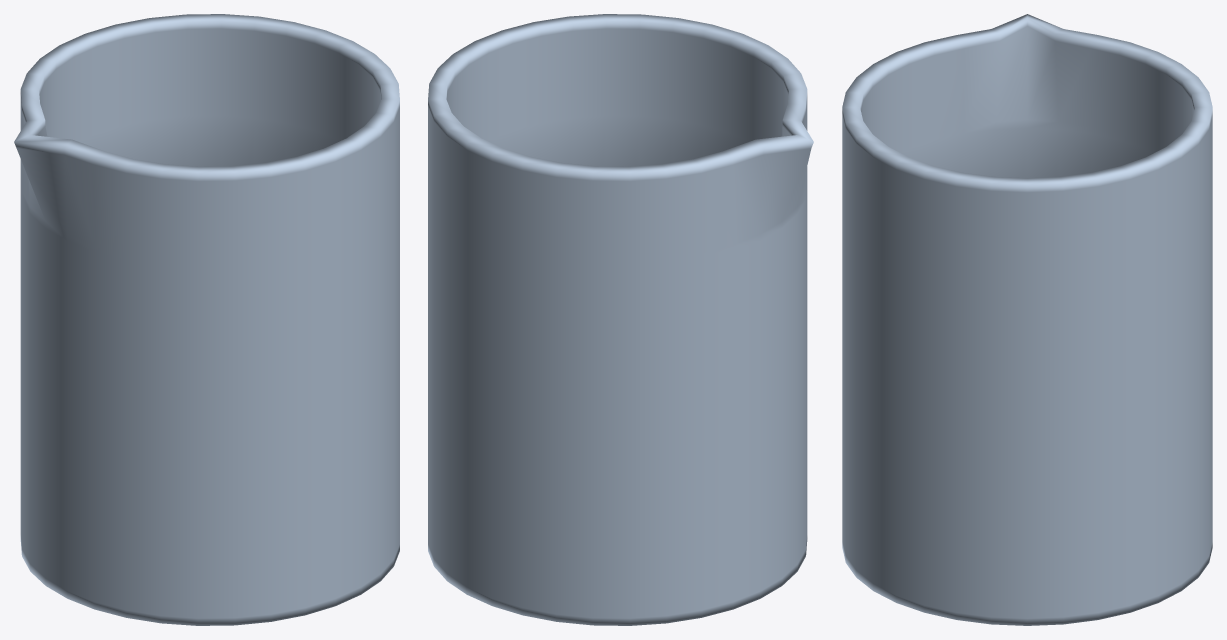
Rendered from Beaker.fbx.
The picture shows the model from 3 angles, left to right: view 1: azimuth 30°, elevation 25°; view 2: azimuth 150°, elevation 25°; view 3: azimuth 270°, elevation 25°; orthographic projection. The views are drawn at different scales.
Parts seen in each view (by area): view 1: 비커; view 2: 비커; view 3: 비커.
Boxes of the visible parts, x1,y1,x2,y2 form: 비커: [14, 14, 399, 625]; 비커: [428, 14, 813, 625]; 비커: [842, 14, 1212, 625].
Size of the model in its own units: 28.77 by 34.66 by 26.23.
